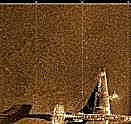aircraft: (53, 70, 129, 122)
